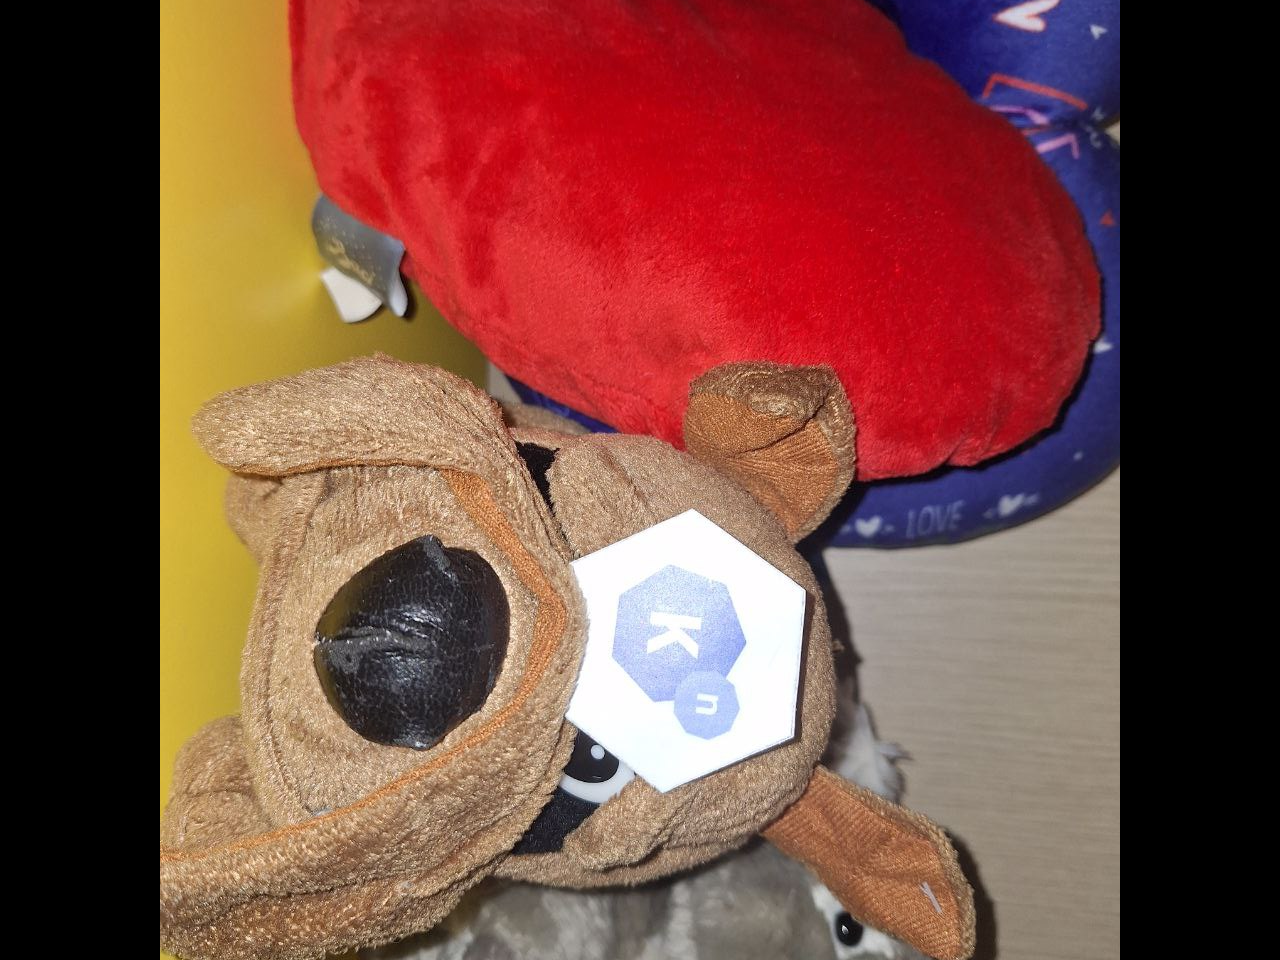knative: (609, 563, 749, 743)
